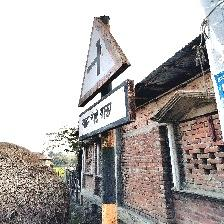Side-road-left: (77, 14, 133, 142)
